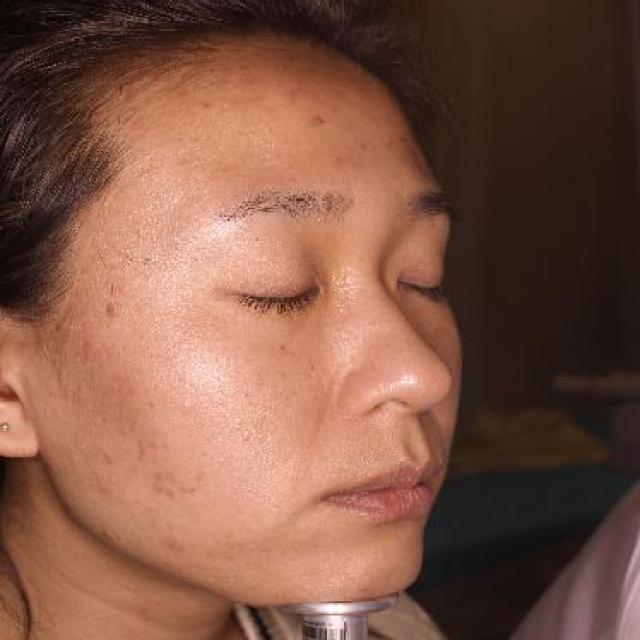papules: (300, 105, 336, 132), (95, 294, 126, 323)
